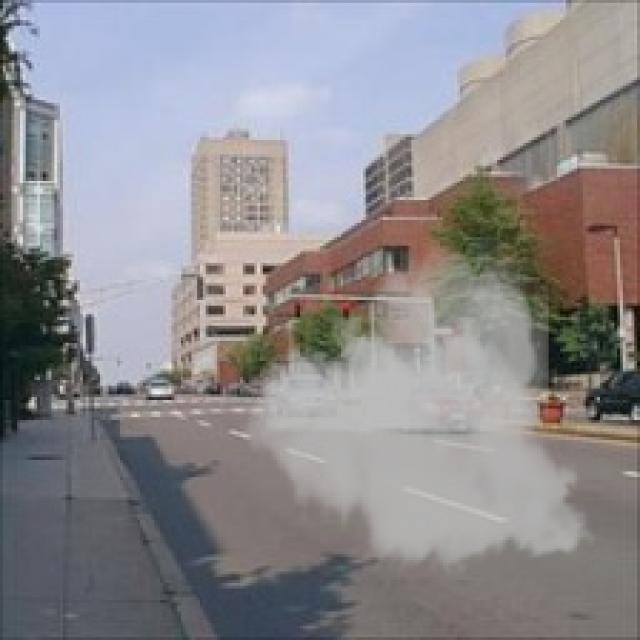Smoke: (231, 237, 606, 580)
